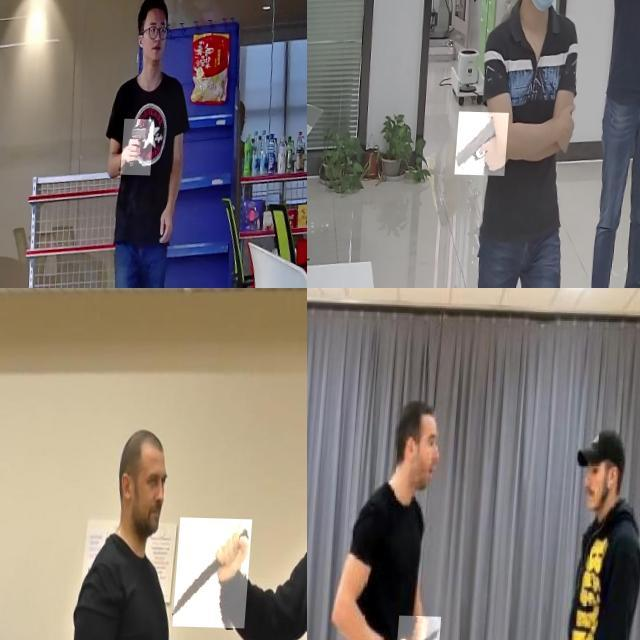-: (178, 516, 257, 626), (401, 613, 447, 640)
gun-knife-thesis - v11 Yolov5 augmented: (458, 110, 512, 174), (124, 116, 157, 172)
